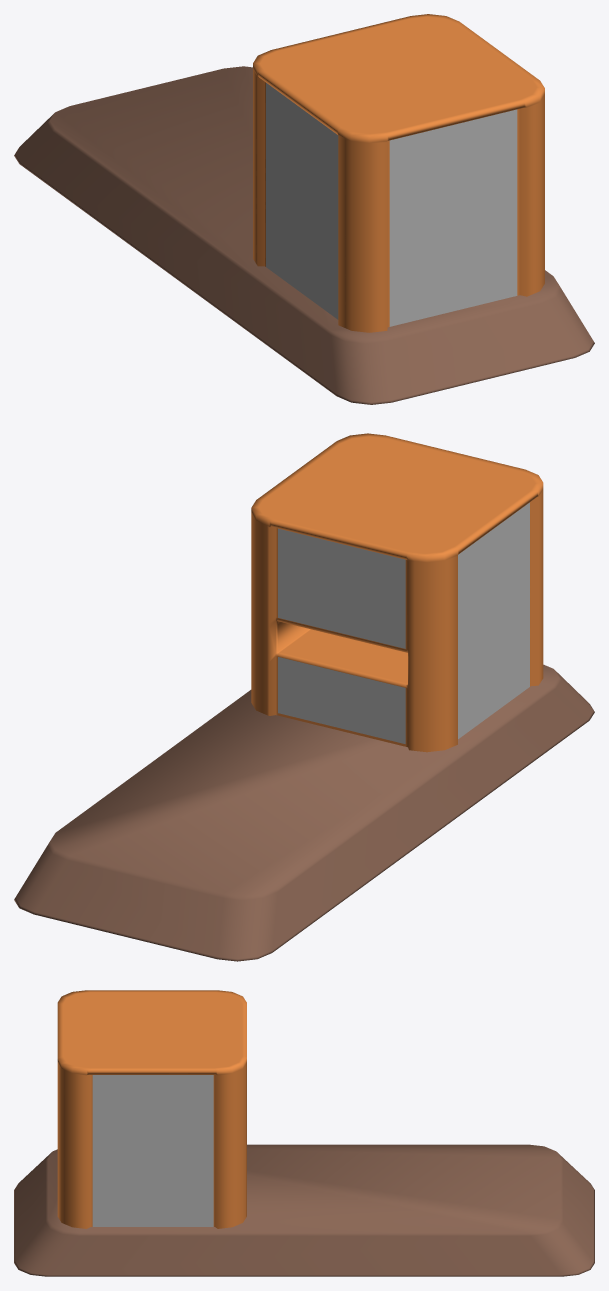
File: dispensador1.fbx
3 renders of one model, top to bottom at view 1: azimuth 30°, elevation 25°; view 2: azimuth 150°, elevation 25°; view 3: azimuth 270°, elevation 25°, orthographic. The views are drawn at different scales.
Visible parts, largest first — view 1: Cube.008; view 2: Cube.008; view 3: Cube.008.
Boxes of the visible parts, x1,y1,x2,y2 form: Cube.008: [14, 14, 594, 404]; Cube.008: [14, 433, 594, 961]; Cube.008: [14, 990, 594, 1276].
Size of the model in its own units: 317 by 291 by 778.
